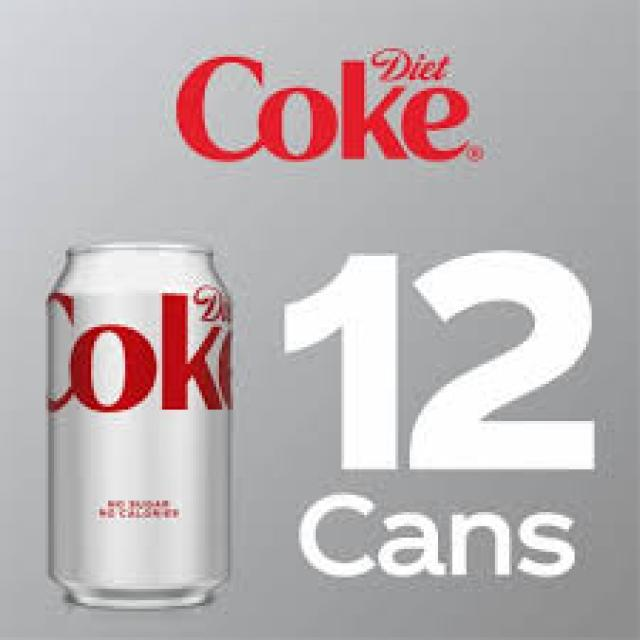Cans: (37, 228, 247, 620)
